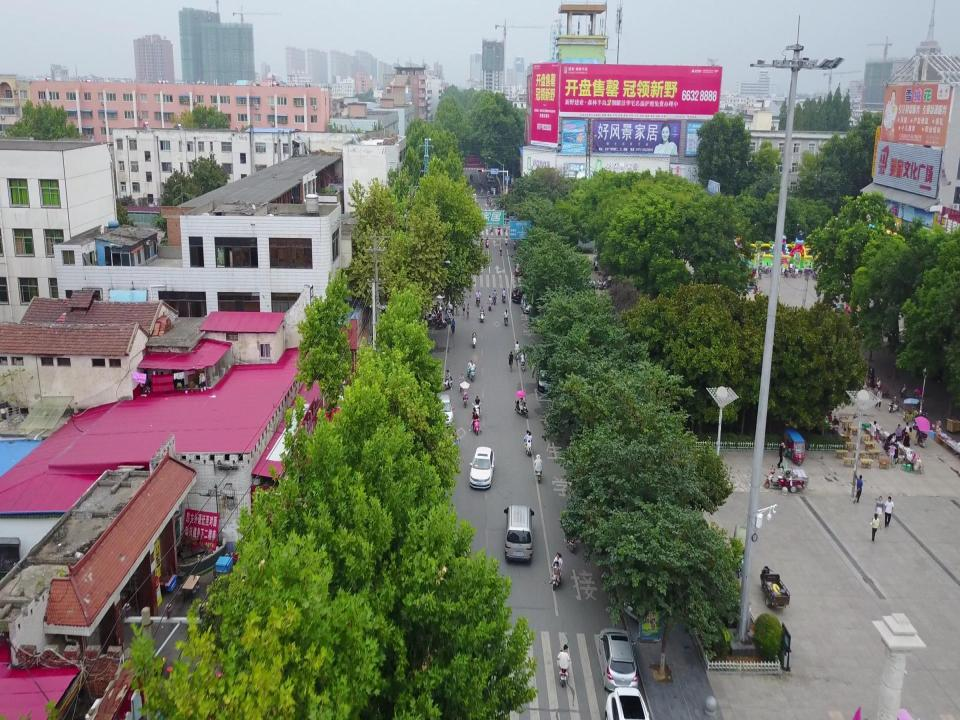car: (599, 629, 639, 691), (504, 505, 534, 564), (605, 686, 650, 720), (470, 446, 494, 489), (434, 395, 454, 427), (536, 368, 554, 393), (520, 294, 536, 315), (511, 287, 529, 304)
